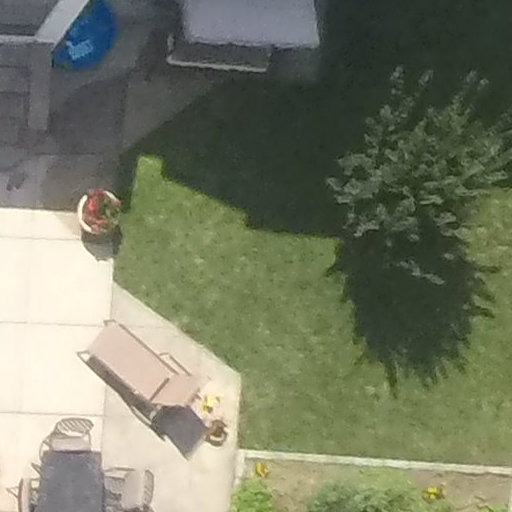chair: (69, 308, 220, 428), (33, 408, 109, 456), (99, 457, 159, 512)
flower pot: (74, 180, 130, 246)
